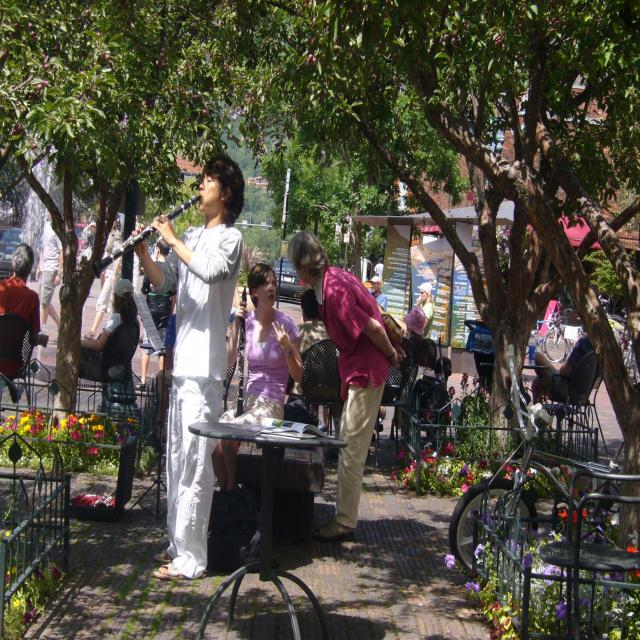clarinet: (92, 194, 201, 279)
